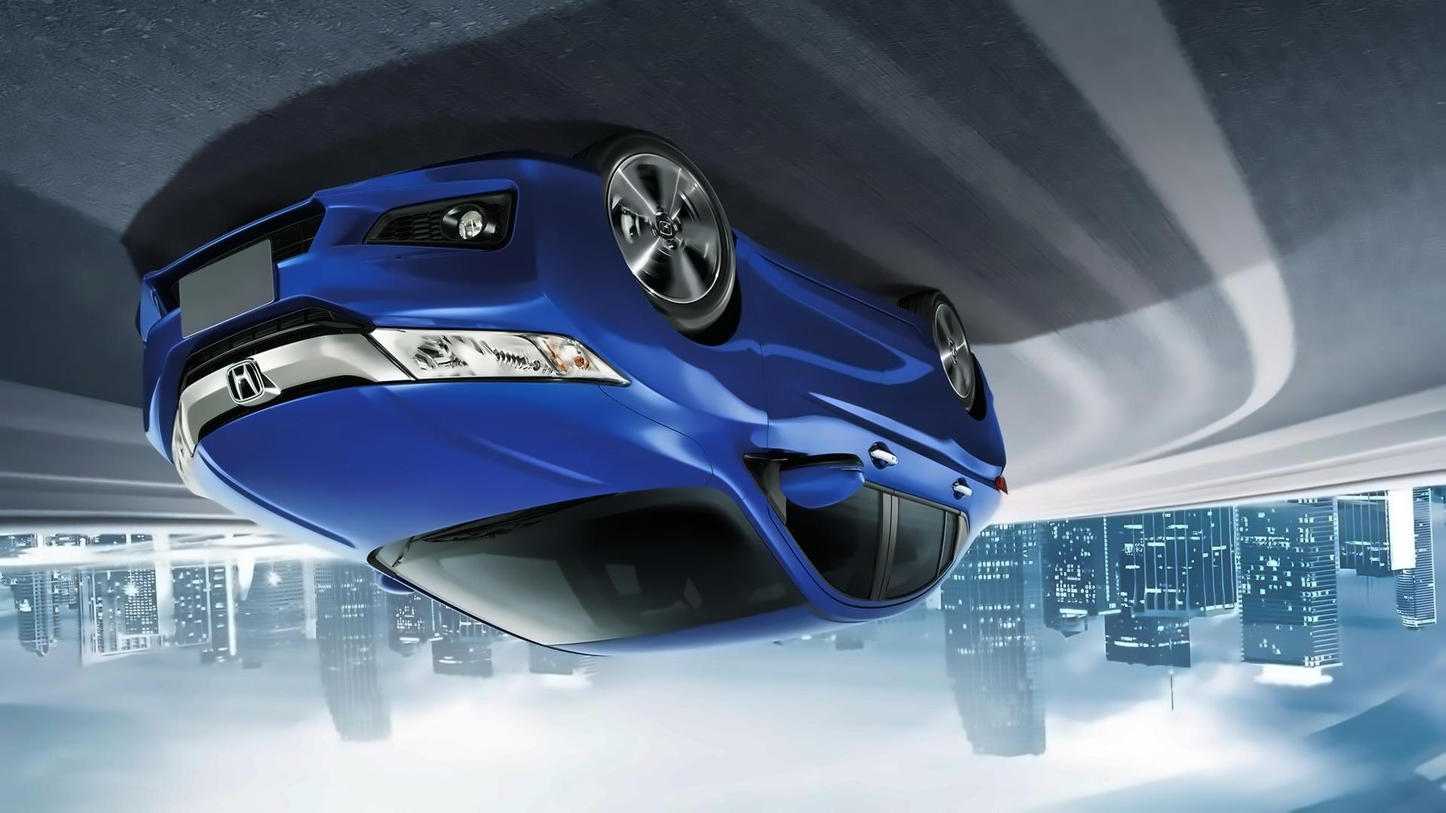Car hood: (172, 377, 721, 564)
Driver-s door - -F-R-: (729, 216, 890, 624)
Fender - -F-R-: (553, 176, 785, 496)
Fender - -R-R-: (901, 338, 1007, 528)
Front bumper: (122, 154, 618, 501)
Headlight - -R-: (370, 328, 632, 384)
Passenger-s door - -R-R-: (857, 274, 967, 619)
Side bumper - -R-: (722, 205, 923, 364)
Side mirror - -R-: (759, 452, 864, 518)
